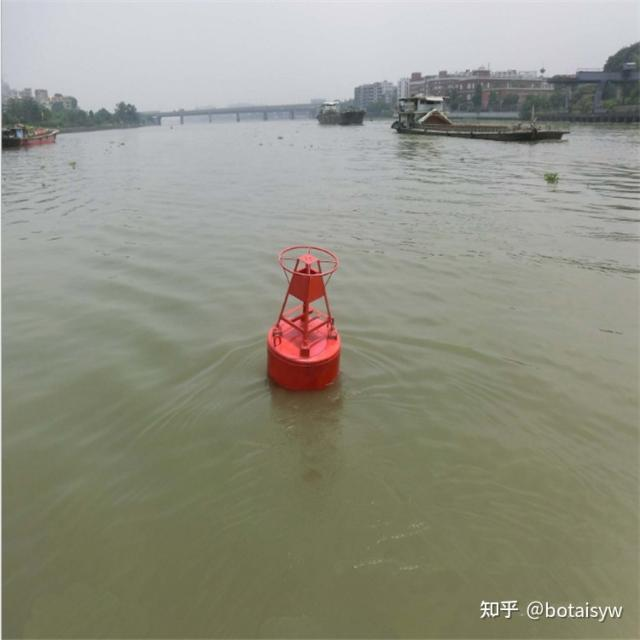buoy: (259, 244, 350, 388)
